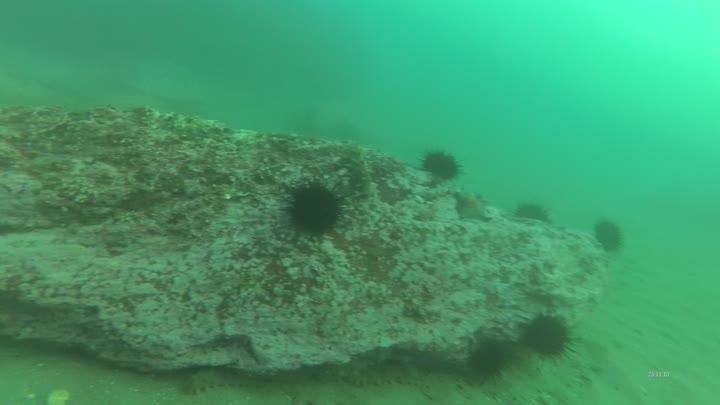echinus: (281, 177, 348, 240), (517, 308, 577, 361), (463, 334, 515, 382), (418, 147, 464, 183), (590, 216, 627, 255), (512, 199, 552, 227)
holothurian: (336, 356, 427, 391), (342, 142, 382, 210), (176, 367, 254, 399)
starfish: (450, 186, 493, 224)
